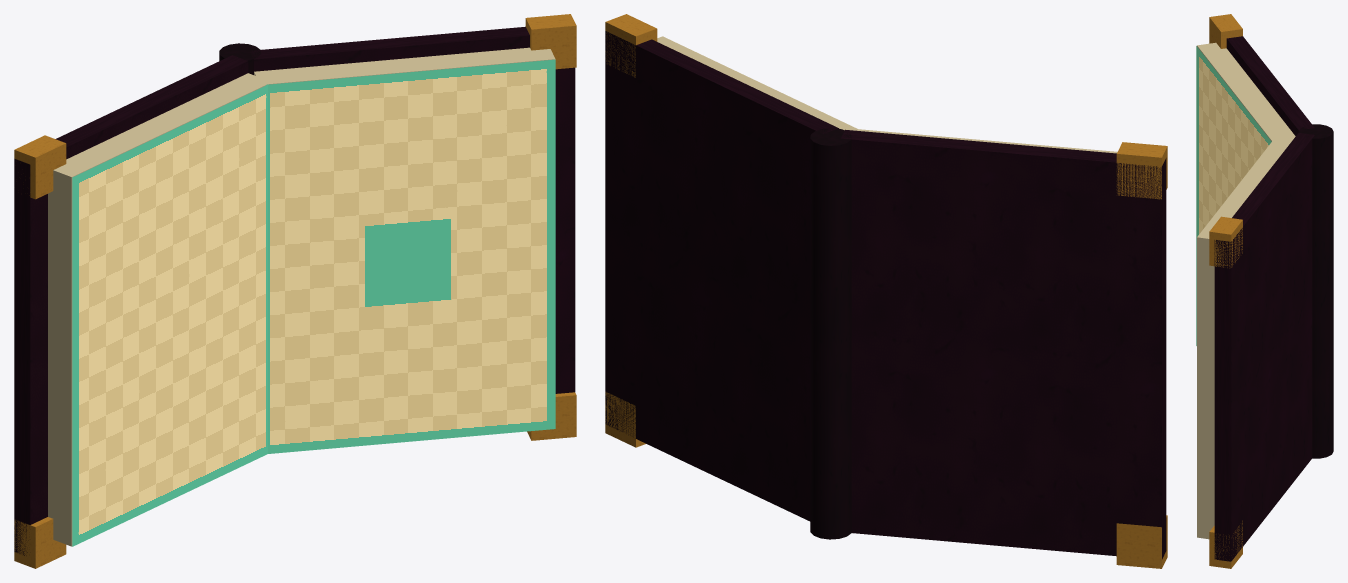
The model's file is altar_book.glb.
3 renders of one model, left to right at view 1: azimuth 30°, elevation 25°; view 2: azimuth 150°, elevation 25°; view 3: azimuth 270°, elevation 25°, orthographic. The views are drawn at different scales.
Parts seen in each view (by area): view 1: altar_page_right, altar_page_left, altar_book; view 2: altar_book; view 3: altar_book, altar_page_left.
Boxes of the visible parts, left/top/right/bottom form: altar_page_right: left=266, top=59, right=555, bottom=453; altar_page_left: left=72, top=84, right=268, bottom=546; altar_book: left=14, top=14, right=576, bottom=568; altar_book: left=605, top=14, right=1167, bottom=568; altar_book: left=1197, top=14, right=1333, bottom=568; altar_page_left: left=1196, top=46, right=1271, bottom=345.
Size of the model in its own units: 0.3625 by 0.256 by 0.0953.
6 materials, 5 textured.
